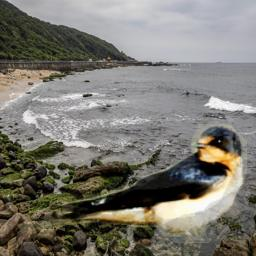Swallow: (17, 124, 247, 243)
